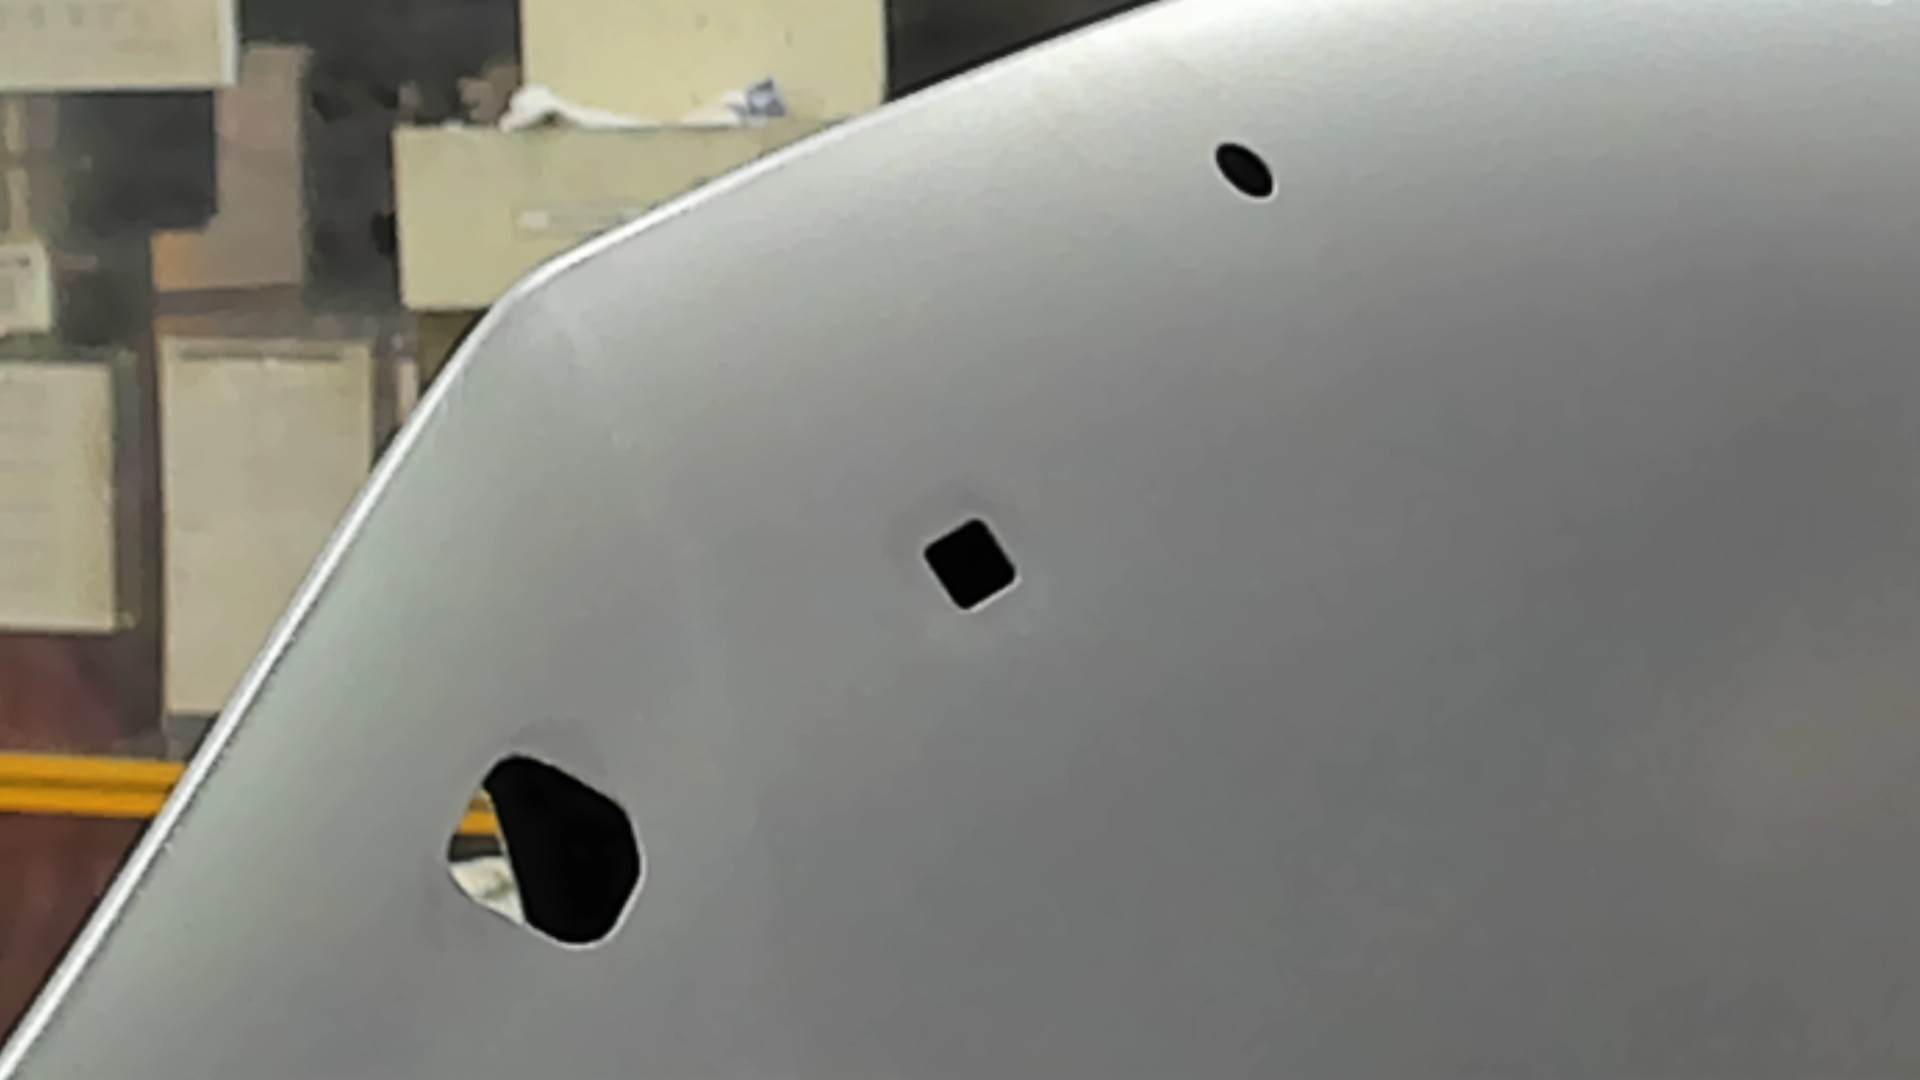chico: (1211, 137, 1279, 204)
grande: (436, 744, 651, 956)
mediano: (918, 514, 1027, 617)
